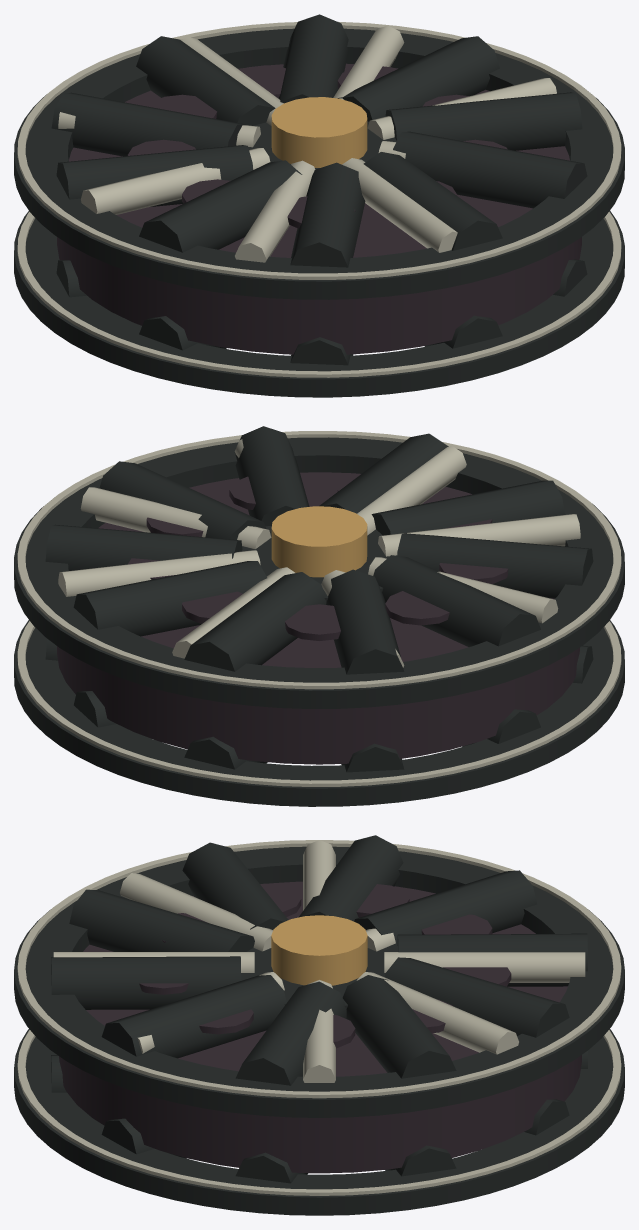
The model's file is Metropolitan.glb.
3 views of the same model, one above another, from view 1: azimuth 30°, elevation 25°; view 2: azimuth 150°, elevation 25°; view 3: azimuth 270°, elevation 25° (orthographic).
Parts seen in each view (by area): view 1: Pressed web (×15), Stamped outer rim (×2), Wound silk, Raised spoke (×7), Pressed lip (×2), Spindle, Spool window (×4), Spool hub; view 2: Pressed web (×14), Stamped outer rim (×2), Wound silk, Raised spoke (×6), Pressed lip (×2), Spool window (×6), Spindle, Spool hub; view 3: Pressed web (×14), Stamped outer rim (×2), Wound silk, Pressed lip (×2), Raised spoke (×6), Spindle, Spool window (×6), Spool hub.
Boxes of the visible parts, bbox=[...] form: Pressed web (×15): bbox=[51, 14, 587, 365]; Stamped outer rim (×2): bbox=[14, 28, 624, 397]; Wound silk: bbox=[57, 63, 581, 354]; Raised spoke (×7): bbox=[58, 25, 556, 262]; Pressed lip (×2): bbox=[17, 21, 621, 377]; Spindle: bbox=[271, 97, 367, 167]; Spool window (×4): bbox=[127, 65, 285, 203]; Spool hub: bbox=[236, 121, 396, 169]; Pressed web (×14): bbox=[45, 426, 593, 772]; Stamped outer rim (×2): bbox=[14, 437, 624, 806]; Wound silk: bbox=[57, 472, 579, 764]; Raised spoke (×6): bbox=[58, 446, 580, 658]; Pressed lip (×2): bbox=[17, 431, 621, 786]; Spool window (×6): bbox=[146, 476, 508, 640]; Spindle: bbox=[271, 506, 367, 577]; Spool hub: bbox=[241, 526, 396, 601]; Pressed web (×14): bbox=[51, 835, 587, 1183]; Stamped outer rim (×2): bbox=[14, 846, 624, 1215]; Wound silk: bbox=[59, 881, 581, 1173]; Pressed lip (×2): bbox=[17, 840, 621, 1195]; Raised spoke (×6): bbox=[53, 840, 585, 1082]; Spindle: bbox=[271, 915, 367, 985]; Spool window (×6): bbox=[199, 883, 511, 1048]; Spool hub: bbox=[241, 943, 397, 1018].
Size of the model in its own units: 0.85 by 0.253 by 0.85.
